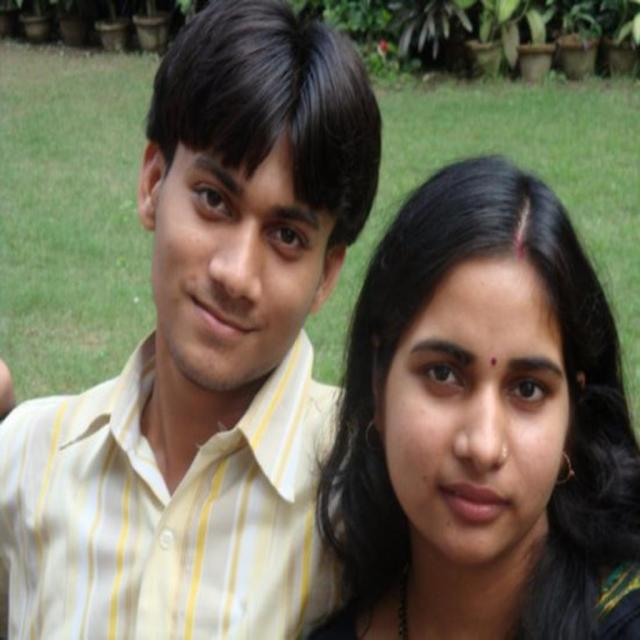Face: (395, 261, 569, 556), (143, 124, 323, 395)
